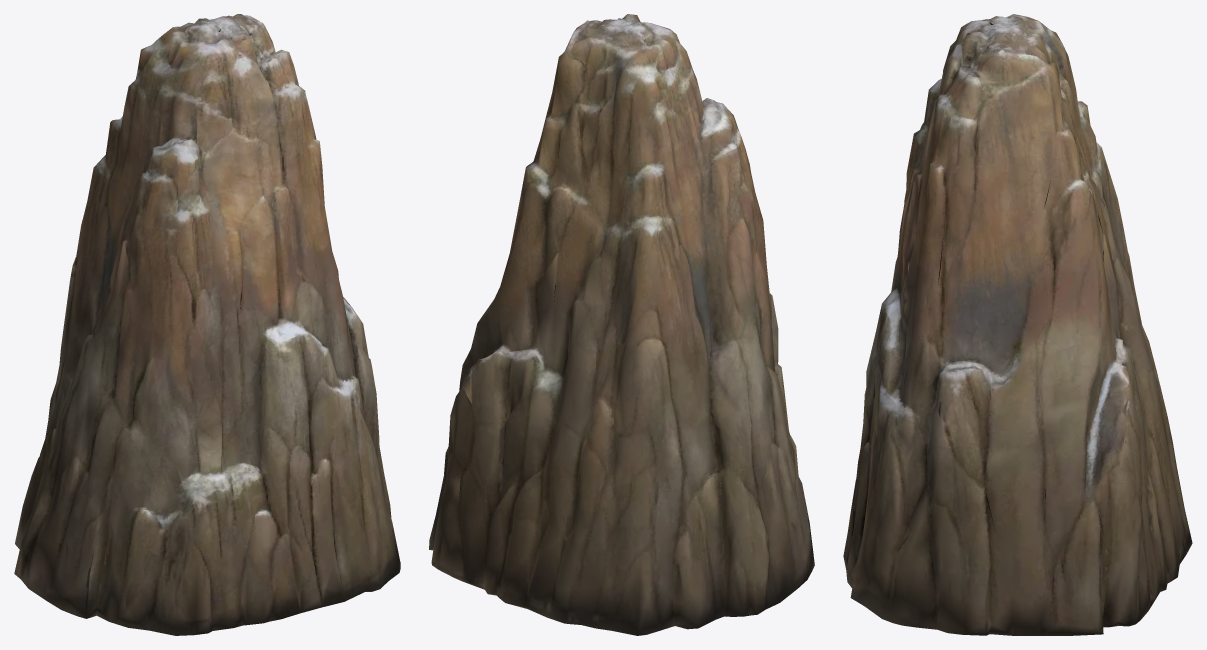
The model's file is pillar_peak.glb.
3 views of the same model, side by side, from view 1: azimuth 30°, elevation 25°; view 2: azimuth 150°, elevation 25°; view 3: azimuth 270°, elevation 25° (orthographic). The views are drawn at different scales.
Visible parts, largest first — view 1: pillar_peak_00; view 2: pillar_peak_00; view 3: pillar_peak_00.
Boxes of the visible parts, box(x1,y1,x2,y2) form: pillar_peak_00: box(14, 14, 400, 635); pillar_peak_00: box(429, 14, 814, 635); pillar_peak_00: box(843, 14, 1192, 635).
Bounding box in the file's own units: 1.28 × 1.99 × 1.17.
1 material, 1 textured.
